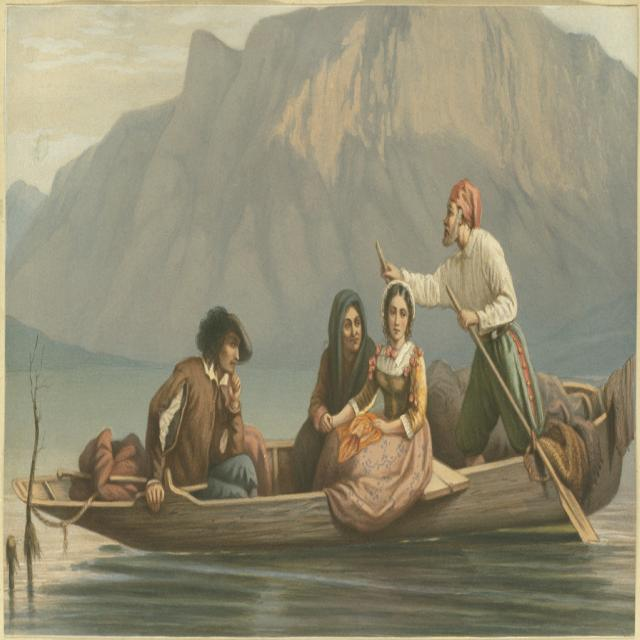Boat: (5, 350, 633, 564)
